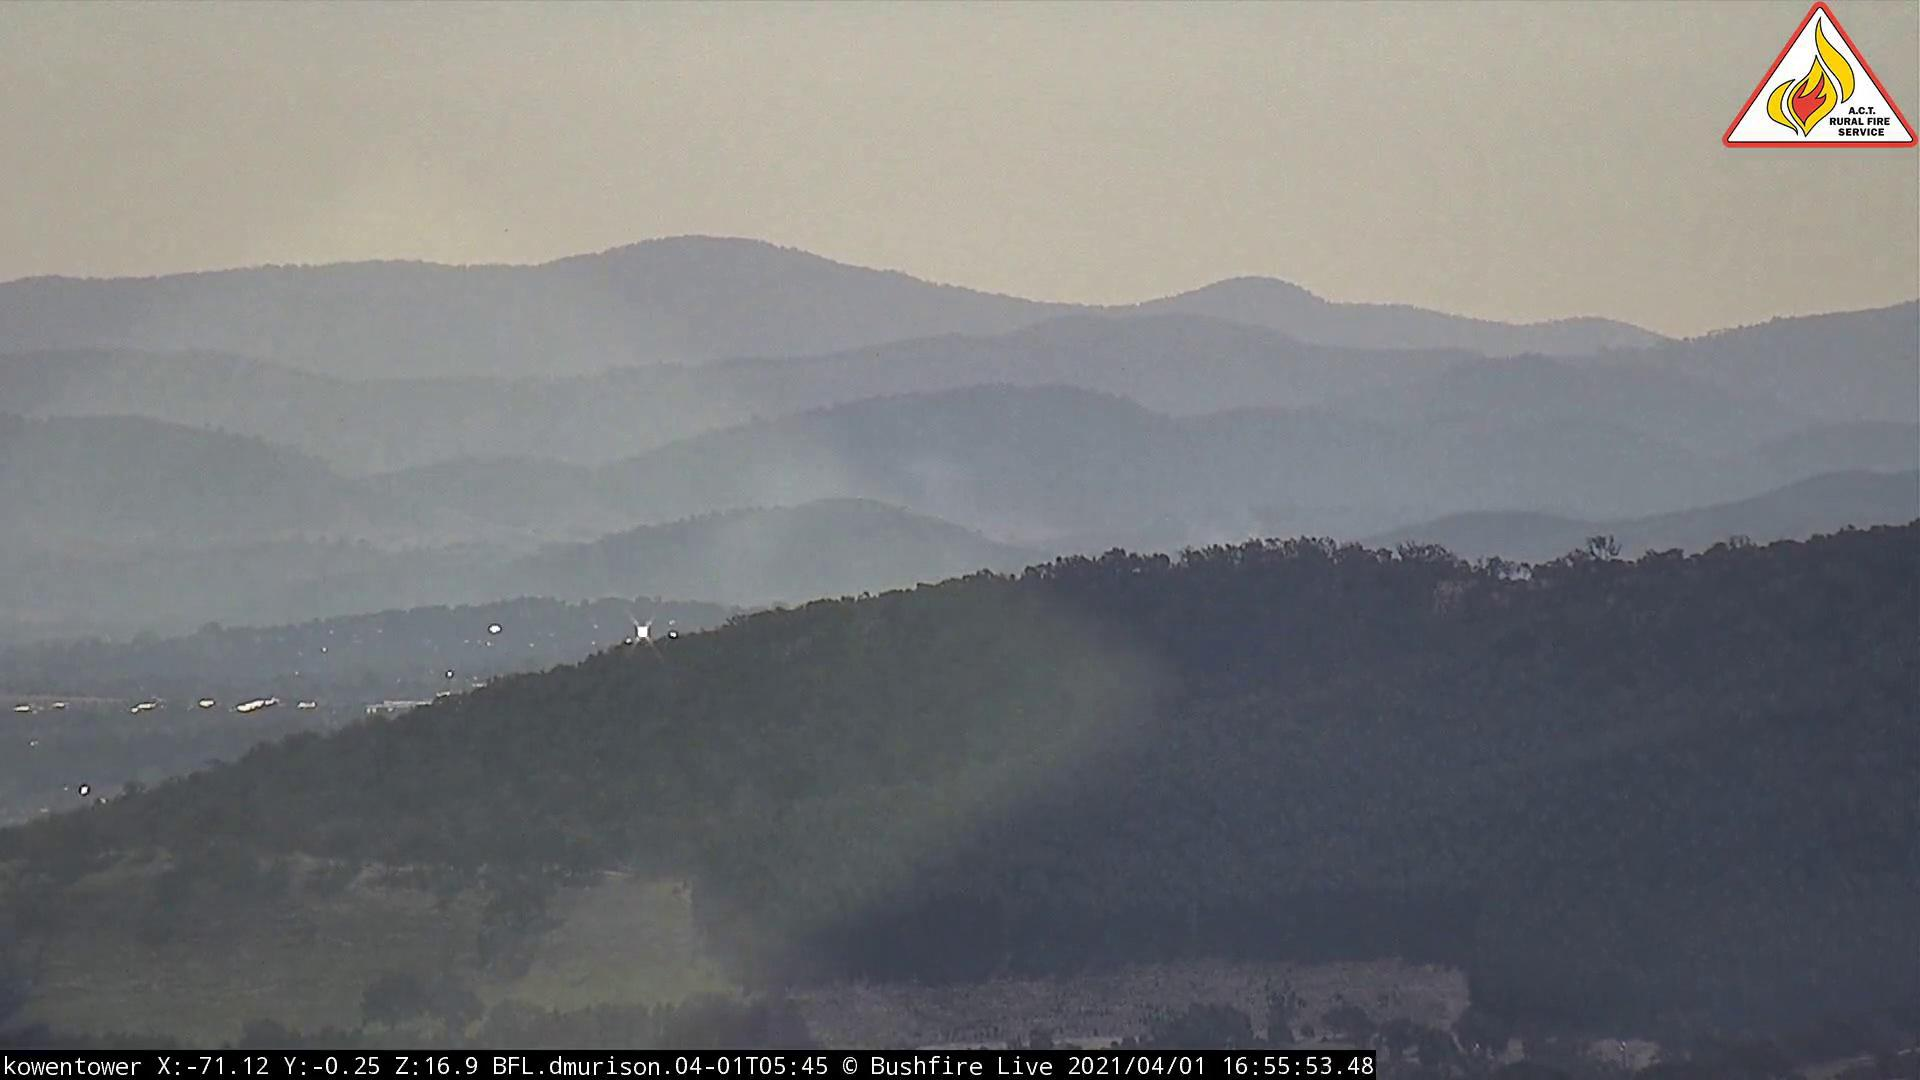Smoke: (721, 414, 1059, 671)
